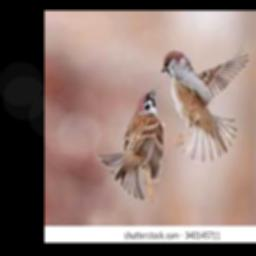Sparrow: (160, 51, 249, 162), (95, 88, 162, 199)
